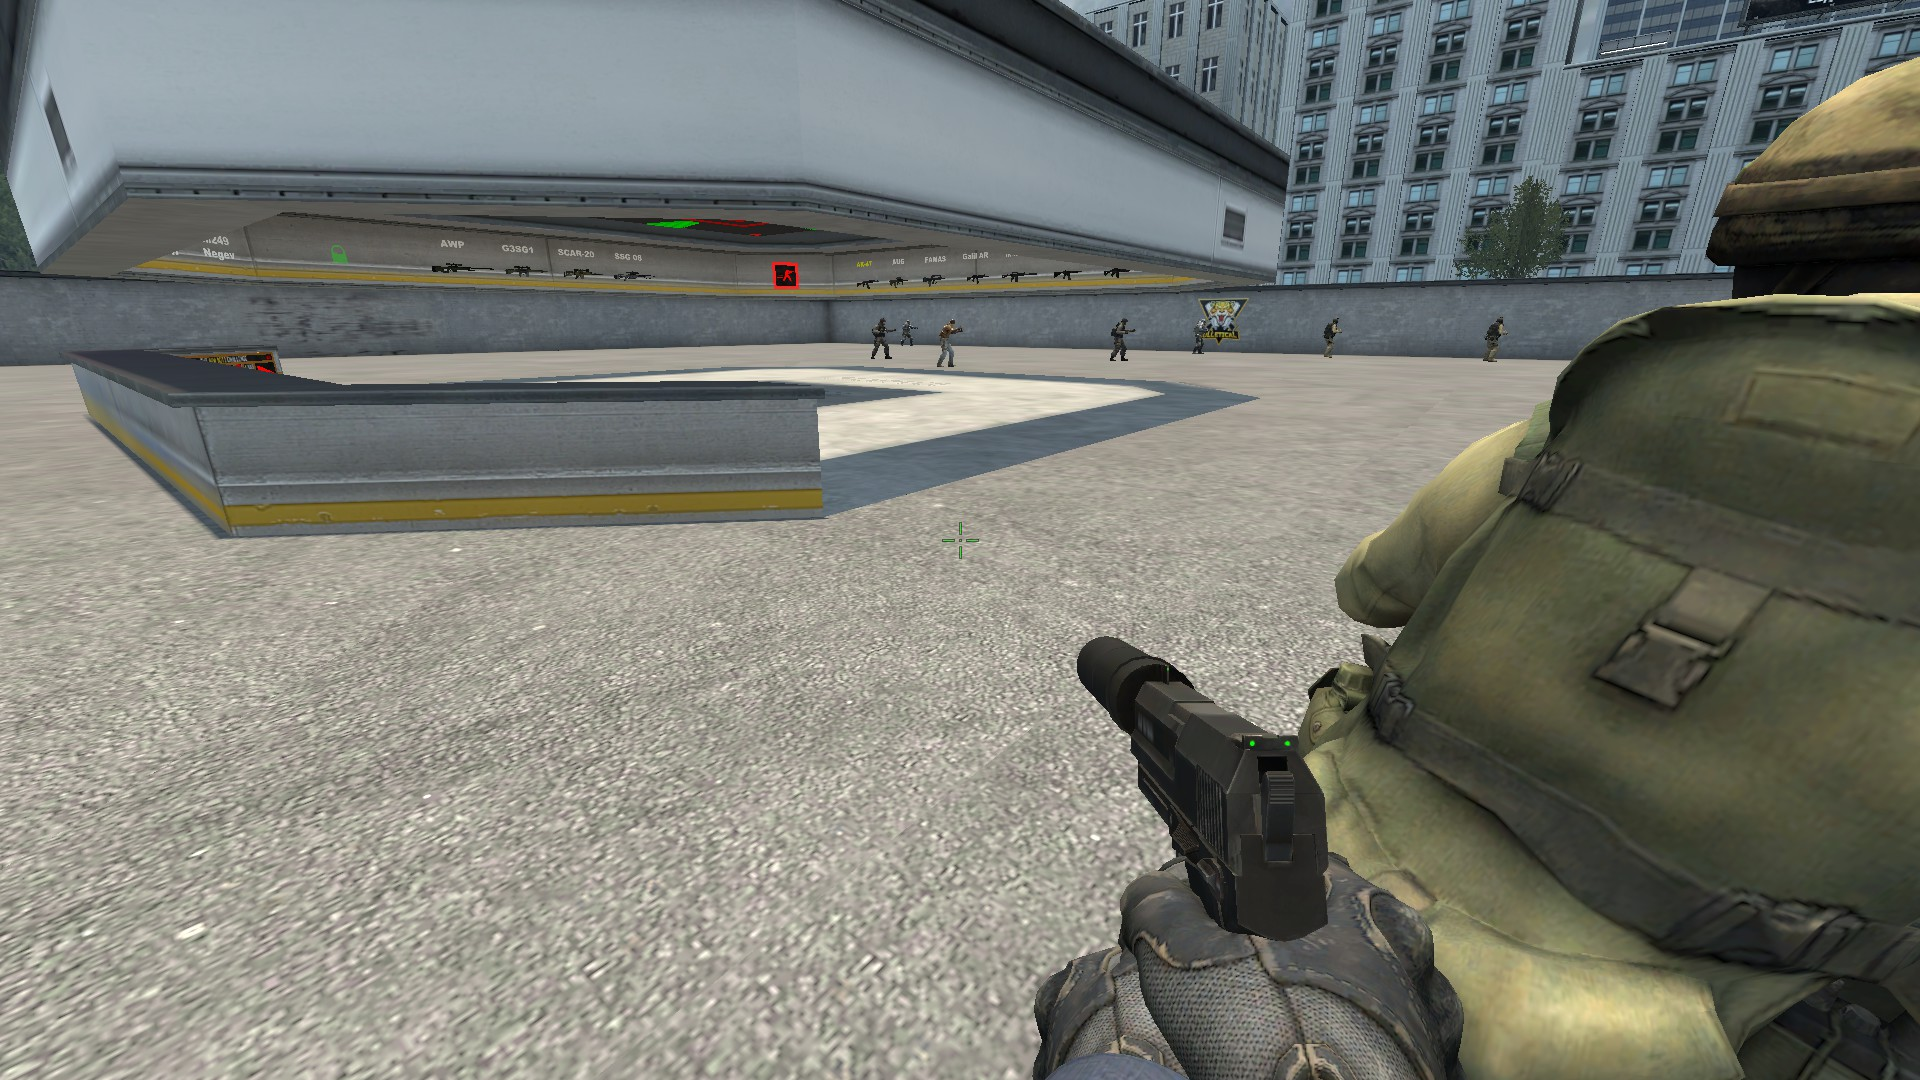ct: (1270, 45, 1919, 1080)
